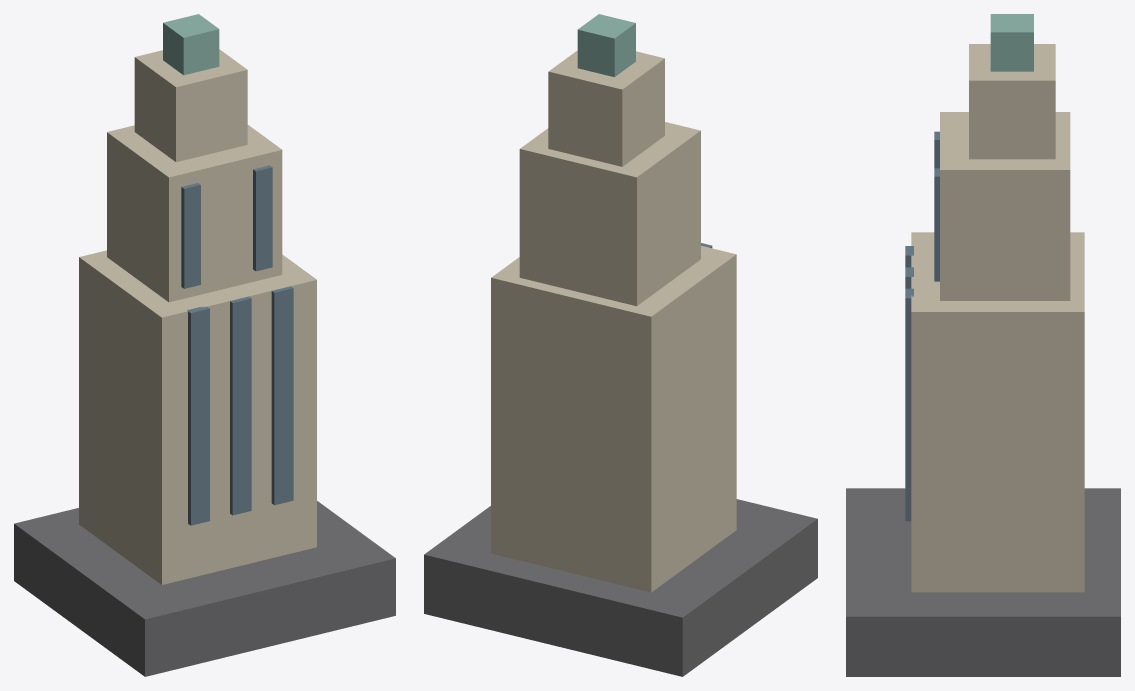
The model's file is house-modern-1.glb.
3 renders of one model, left to right at view 1: azimuth 30°, elevation 25°; view 2: azimuth 150°, elevation 25°; view 3: azimuth 270°, elevation 25°, orthographic. The views are drawn at different scales.
Visible parts, largest first — view 1: LOD0; view 2: LOD0; view 3: LOD0.
Boxes of the visible parts, x1=… form: LOD0: x1=14, y1=14, x2=395, y2=676; LOD0: x1=424, y1=14, x2=817, y2=676; LOD0: x1=846, y1=14, x2=1120, y2=676.
Size of what is drawn, in the model's own units: 0.21 by 0.45 by 0.19.
